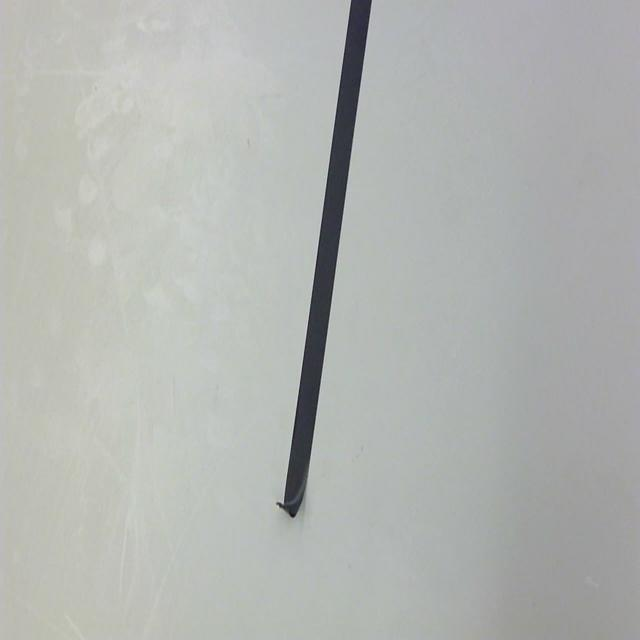tape: (266, 0, 382, 542)
